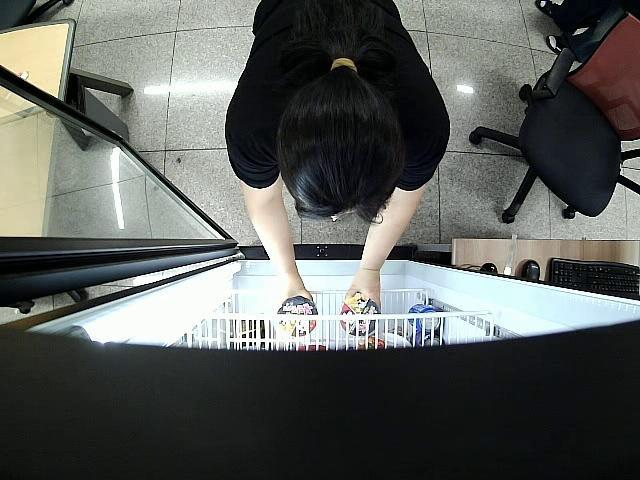08_buldak_S: (276, 296, 318, 339), (340, 300, 376, 336)
